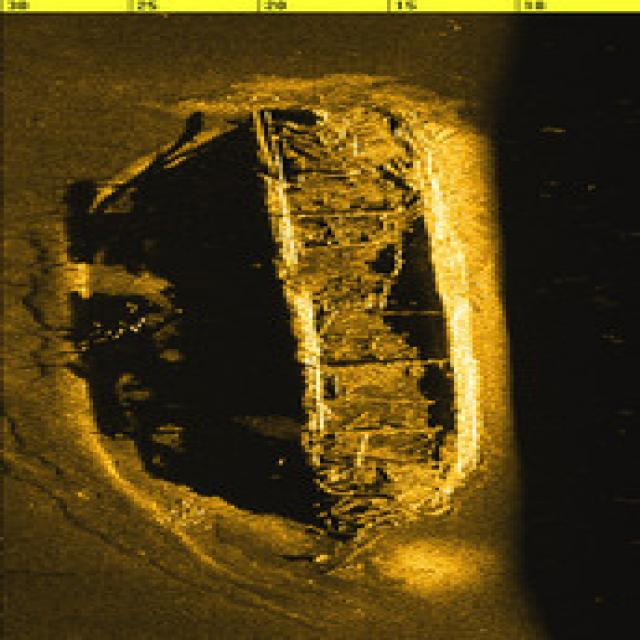ship: (234, 88, 506, 550)
